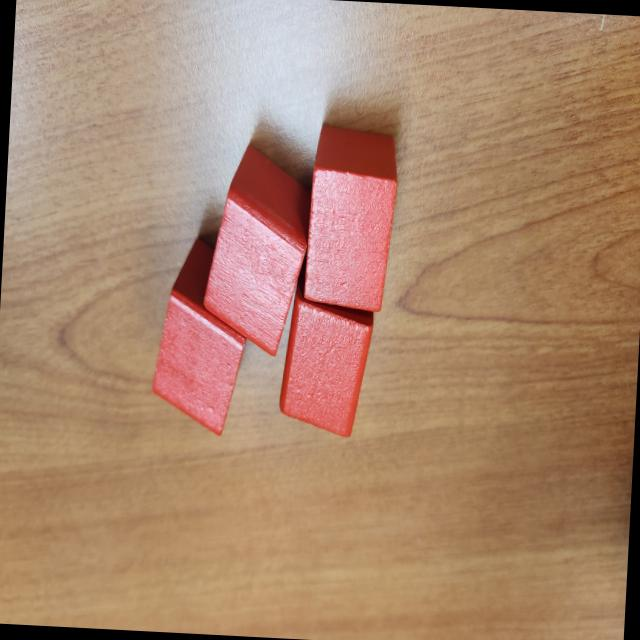red: (201, 143, 313, 357), (149, 232, 251, 440), (298, 121, 402, 313), (278, 295, 376, 441)
